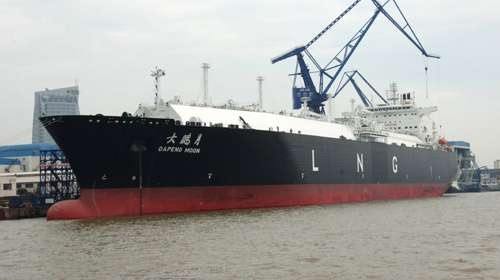Cargoship: (36, 89, 464, 221)
